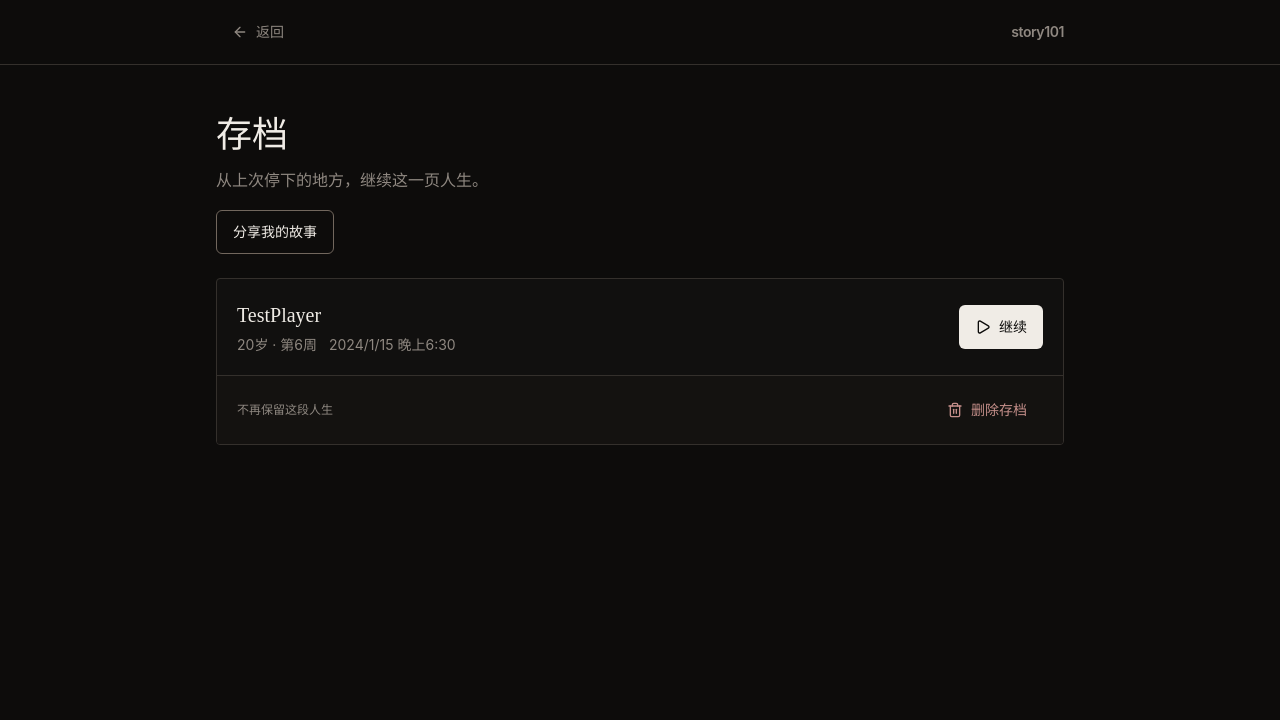
Scenario: SavesPage - Interaction Handling › closes delete dialog when clicking cancel
Expected: the heading "TestPlayer" is shown, x1=237 y1=304 x2=321 y2=326
Click the button "删除存档" at (987, 410), box x1=931 y1=388 x2=1043 y2=432
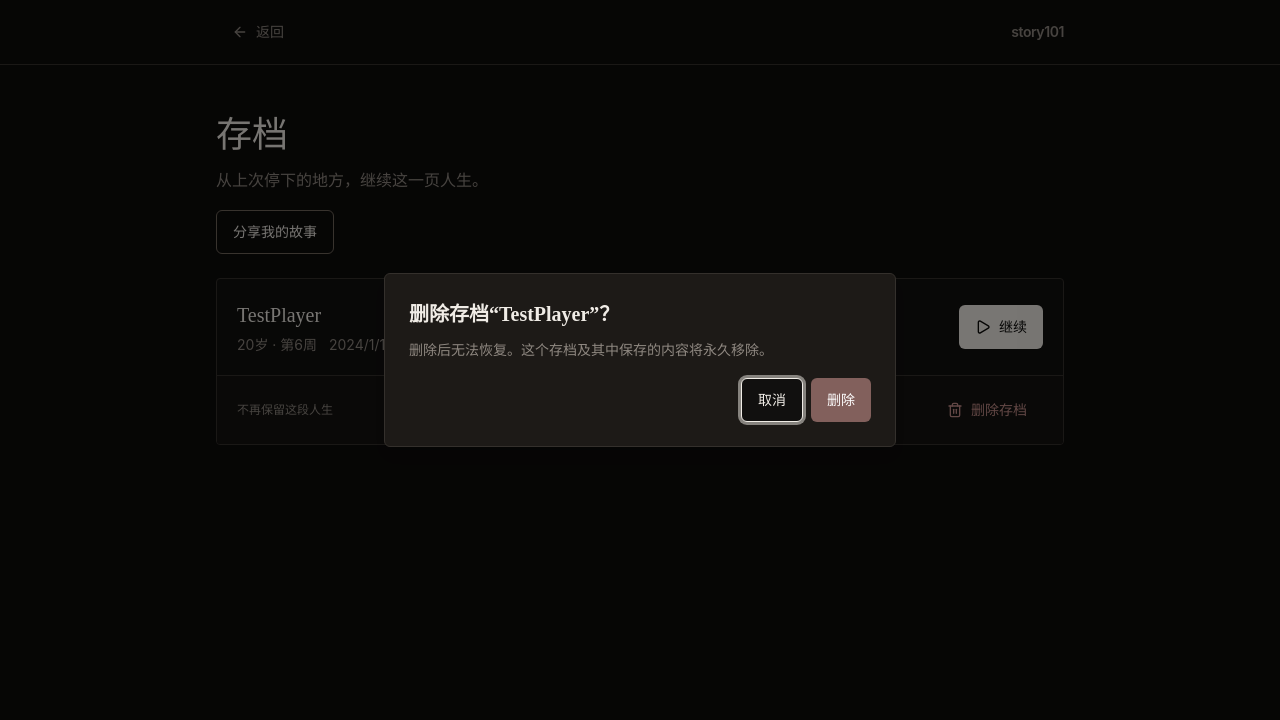
Result: the dialog is shown at x1=384 y1=273 x2=896 y2=447
// Click cancel
Click the button "取消" at (772, 400), box x1=741 y1=378 x2=803 y2=422
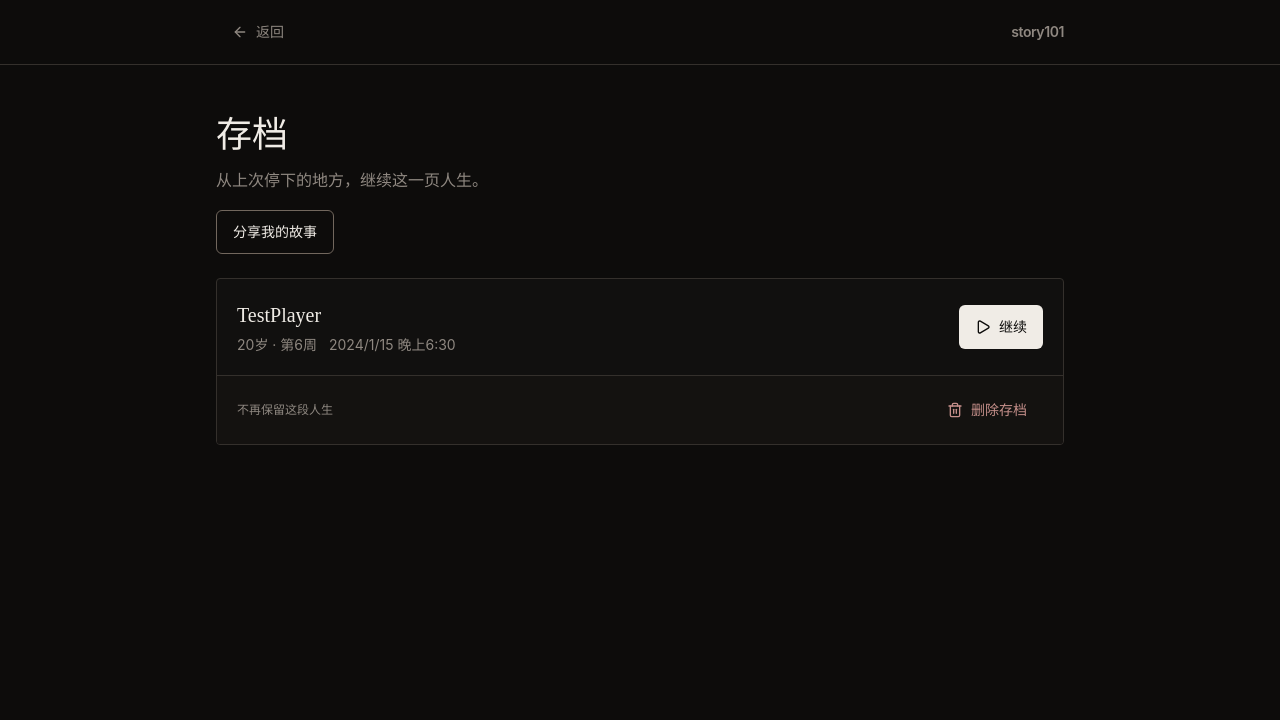
Result: the dialog is gone
